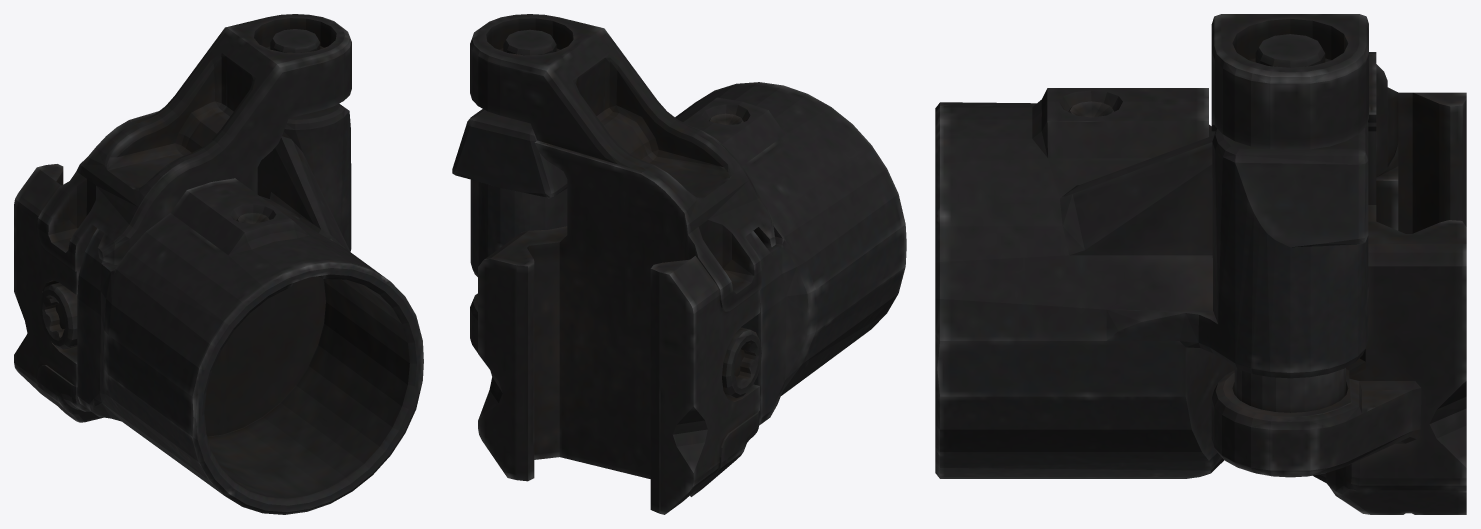
3 renders of one model, left to right at view 1: azimuth 30°, elevation 25°; view 2: azimuth 150°, elevation 25°; view 3: azimuth 270°, elevation 25°, orthographic. The views are drawn at different scales.
Visible parts, largest first — view 1: TW_58ac1bf086f77420ed183f9f_PZ_Import; view 2: TW_58ac1bf086f77420ed183f9f_PZ_Import; view 3: TW_58ac1bf086f77420ed183f9f_PZ_Import.
Part boxes in pixels (x1,y1,x2,y2): TW_58ac1bf086f77420ed183f9f_PZ_Import: (14,14,423,514); TW_58ac1bf086f77420ed183f9f_PZ_Import: (452,14,906,514); TW_58ac1bf086f77420ed183f9f_PZ_Import: (935,14,1466,514).
Bounding box in the file's own units: 0.0223 × 0.0266 × 0.0277.
Materials: 1 (1 with a texture image).
